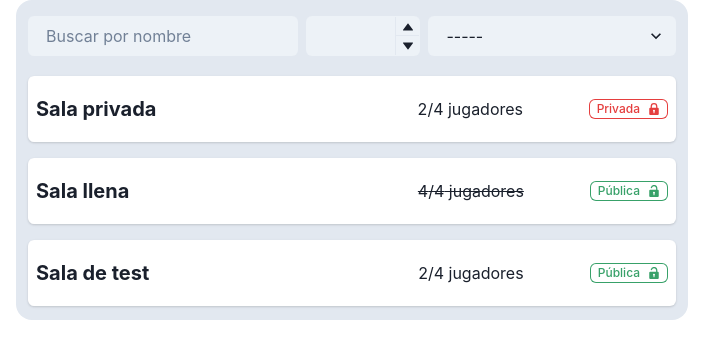
Test: RoomList › Filtra las salas por cantidad de jugadores
The width and height of the screenshot is (705, 337).
Step 1. Type "2" into the number field named "Cantidad de jugadores" → (363, 36), box [306,16,420,56]
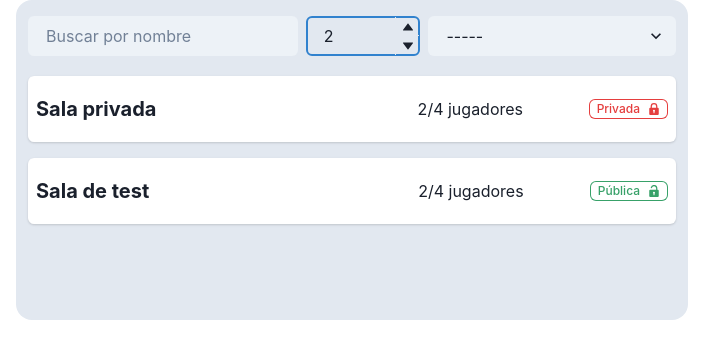
Check: the heading "Sala de test" is shown, box [36,179,149,203]
Check: the heading "Sala llena" is gone
